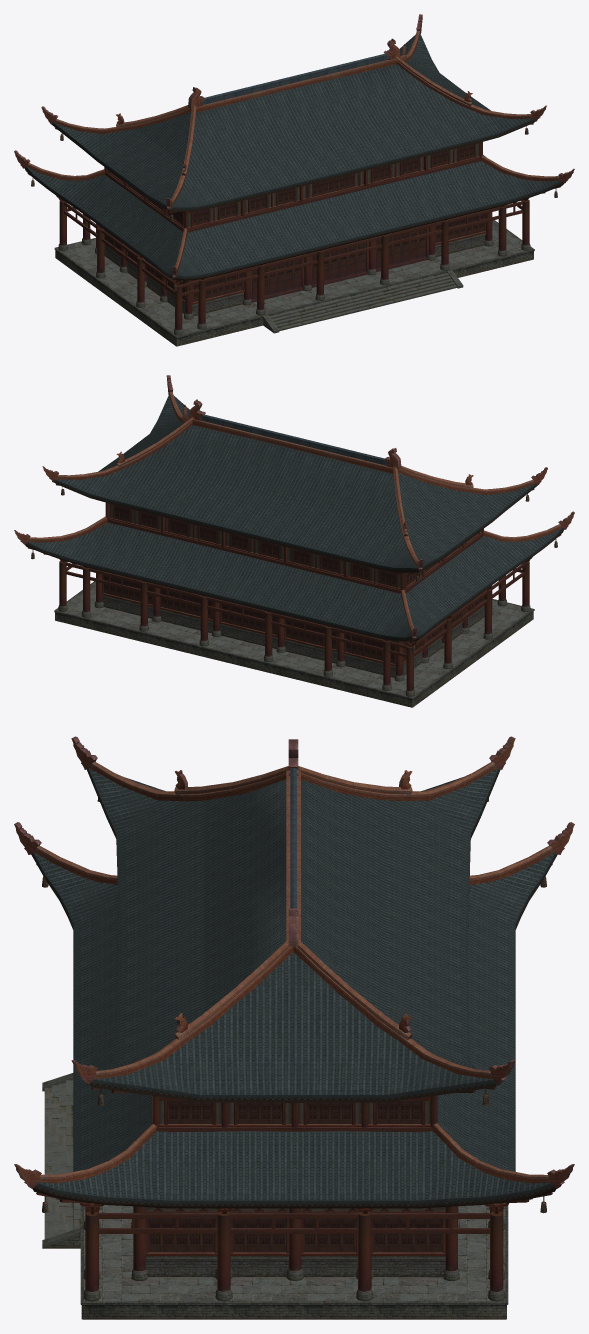
The model's file is chinese_hall.glb.
3 views of the same model, one above another, from view 1: azimuth 30°, elevation 25°; view 2: azimuth 150°, elevation 25°; view 3: azimuth 270°, elevation 25° (orthographic). The views are drawn at different scales.
Visible parts, largest first — view 1: HZ_building_116_0, HZ_building_116_1, HZ_building_116_2; view 2: HZ_building_116_0, HZ_building_116_1, HZ_building_116_2; view 3: HZ_building_116_0, HZ_building_116_1, HZ_building_116_2.
Boxes of the visible parts, x1,y1,x2,y2 form: HZ_building_116_0: (24, 34, 563, 281); HZ_building_116_1: (27, 123, 561, 346); HZ_building_116_2: (14, 14, 574, 290); HZ_building_116_0: (25, 394, 564, 642); HZ_building_116_1: (27, 484, 561, 707); HZ_building_116_2: (14, 375, 574, 651); HZ_building_116_0: (31, 768, 557, 1208); HZ_building_116_1: (36, 864, 552, 1319); HZ_building_116_2: (14, 736, 574, 1213).
Bounding box in the file's own units: 5416 × 2508 × 3728.
Materials: 3 (3 with a texture image).
